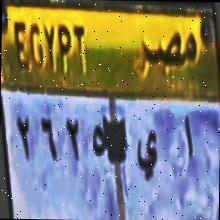2: (63, 110, 84, 169), (14, 112, 32, 162)
5: (88, 121, 106, 167)
6: (38, 109, 58, 178)
alif: (178, 108, 196, 170)
yaa: (134, 123, 160, 187)
